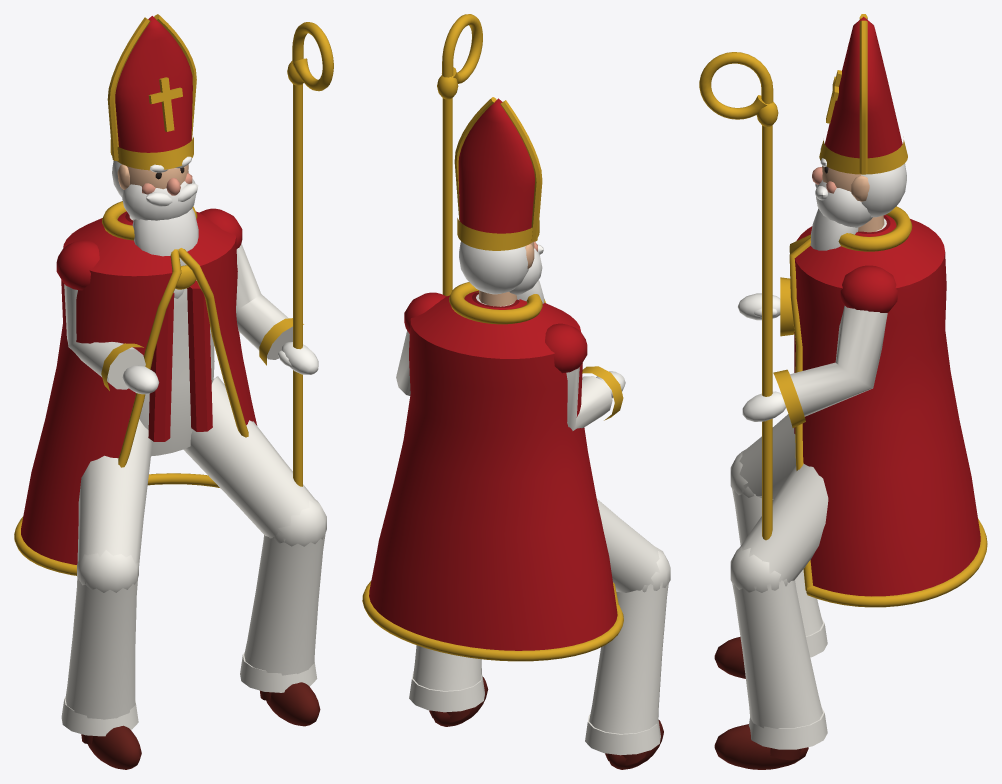
Rendered from sinterklaas.glb.
The picture shows the model from 3 angles, left to right: view 1: azimuth 30°, elevation 25°; view 2: azimuth 150°, elevation 25°; view 3: azimuth 270°, elevation 25°; orthographic projection. The views are drawn at different scales.
Parts seen in each view (by area): view 1: Body, Head, Arm_R; view 2: Body, Head, Arm_R; view 3: Body, Head, Arm_R.
Boxes of the visible parts, x1,y1,x2,y2 form: Body: (14, 22, 333, 769); Head: (107, 14, 198, 298); Arm_R: (56, 240, 159, 394); Body: (362, 14, 670, 769); Head: (454, 97, 544, 306); Arm_R: (545, 323, 625, 430); Body: (699, 52, 987, 769); Head: (810, 14, 907, 250); Arm_R: (738, 277, 794, 336).
Bounding box in the file's own units: 0.7806 × 2.15 × 0.7772.
